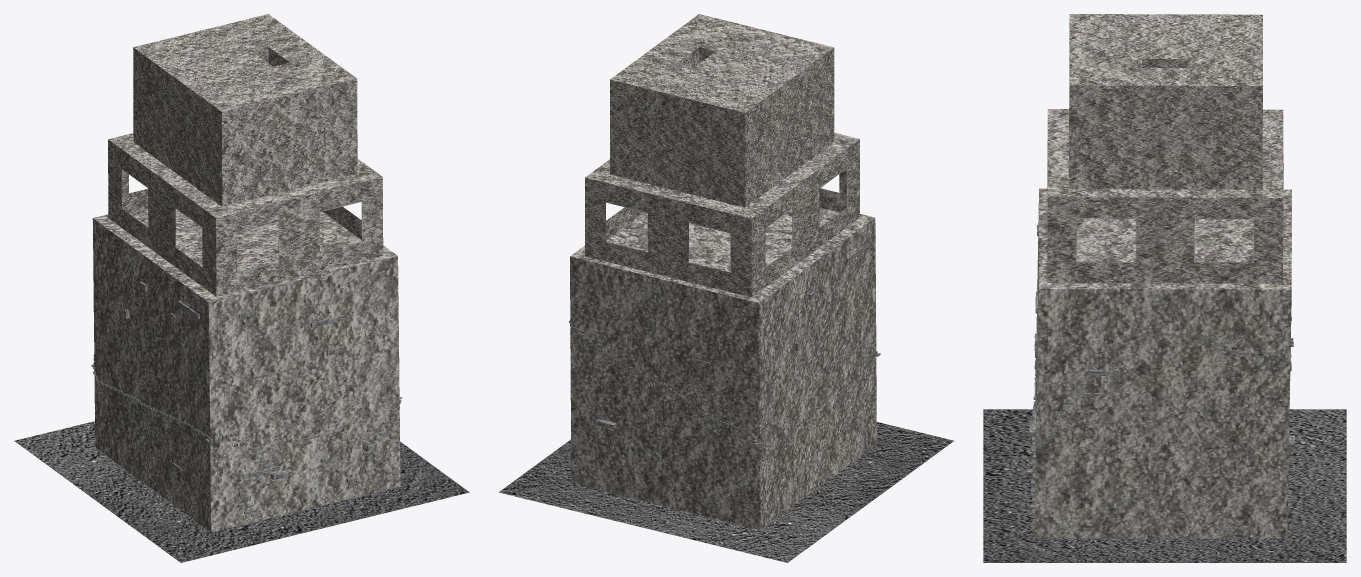
Rendered from building.fbx.
3 views of the same model, side by side, from view 1: azimuth 30°, elevation 25°; view 2: azimuth 150°, elevation 25°; view 3: azimuth 270°, elevation 25° (orthographic). The views are drawn at different scales.
Visible parts, largest first — view 1: Cube, Cube.479, Cube.470, Plane; view 2: Cube, Cube.479, Cube.470, Plane; view 3: Cube, Cube.479, Plane, Cube.470.
Boxes of the visible parts, <box> form: Cube: <box>92,208,400,532</box>; Cube.479: <box>133,14,357,206</box>; Cube.470: <box>108,133,383,296</box>; Plane: <box>14,421,469,562</box>; Cube: <box>570,208,876,529</box>; Cube.479: <box>610,14,834,207</box>; Cube.470: <box>585,132,859,297</box>; Plane: <box>499,422,953,562</box>; Cube: <box>1034,188,1291,538</box>; Cube.479: <box>1069,14,1262,189</box>; Plane: <box>983,409,1346,562</box>; Cube.470: <box>1047,109,1283,283</box>.
Size of the model in its own units: 3707 by 4956 by 3707.
